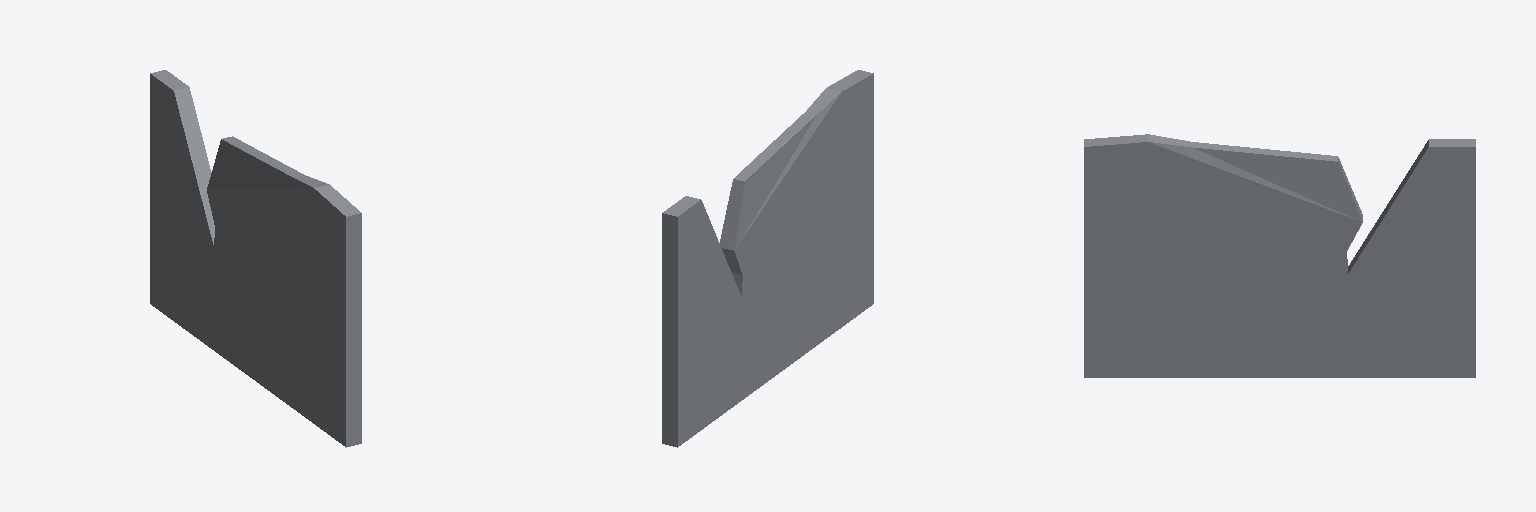
3 views of the same model, side by side, from view 1: azimuth 30°, elevation 25°; view 2: azimuth 150°, elevation 25°; view 3: azimuth 270°, elevation 25° (orthographic).
Parts seen in each view (by area): view 1: wall1:pCube1 group; view 2: wall1:pCube1 group; view 3: wall1:pCube1 group.
Part boxes in pixels (x1,y1,x2,y2): wall1:pCube1 group: (150,70,361,447); wall1:pCube1 group: (662,70,873,447); wall1:pCube1 group: (1084,134,1475,377).
Bounding box in the file's own units: 0.2604 × 3.73 × 5.63.
1 materials, 1 textured.